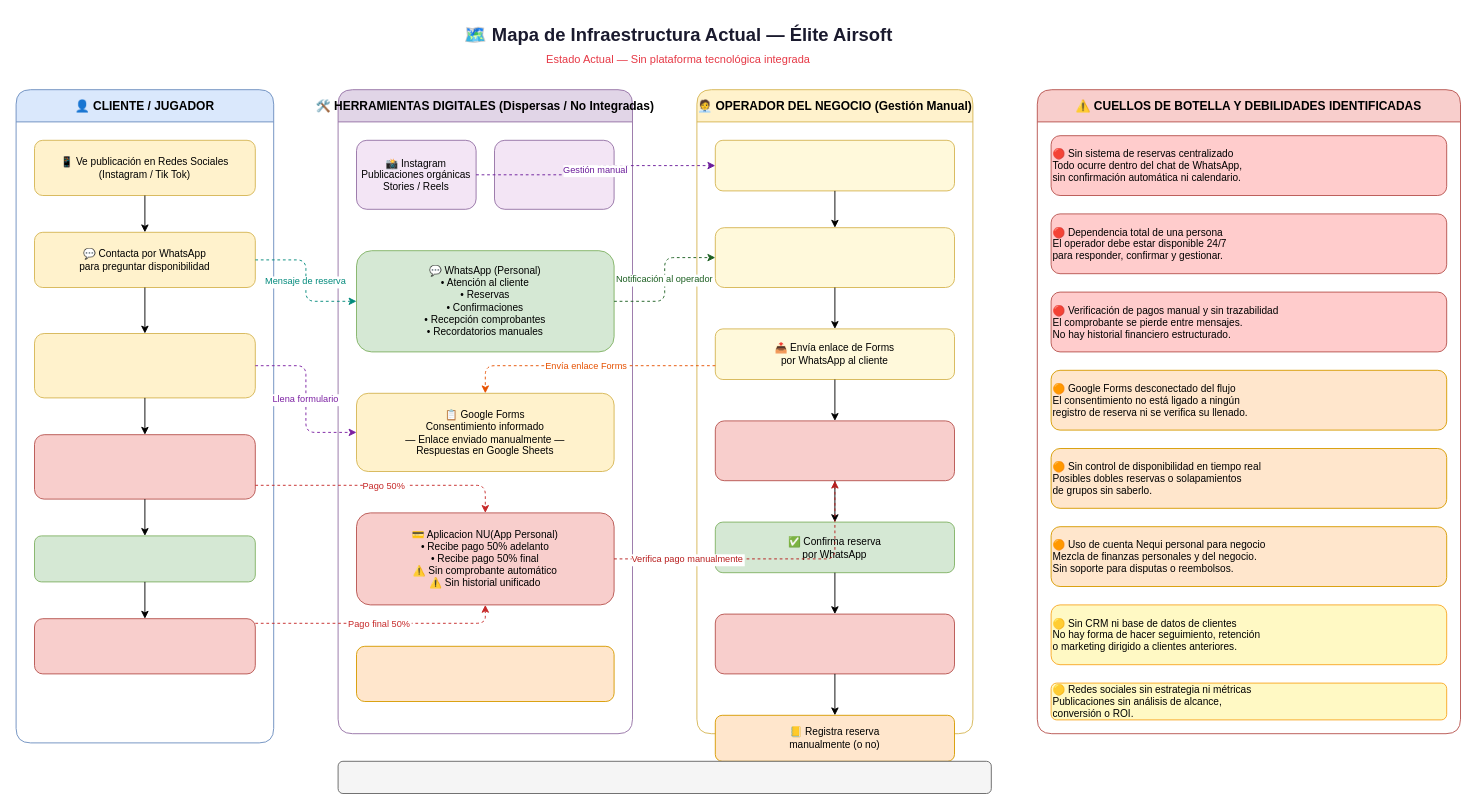
Some shapes in this 1477 by 810 pixel diagram are drawn without their labels. The centre of each missing label's shape, as x and y in pixels:
"LEYENDA: 🔴 Crítico 🟠 Importante 🟡 Mejorable" belongs at point 664,777.
"🎮 Asiste a la partida" belongs at point 144,558.
"👥 Tik Tok Publicaciones orgánicas Eventos" belongs at point 554,174.
"💰 Cobra 50% restante el día de la partida Sin factura / Sin registro" belongs at point 834,643.
"💸 Paga 50% anticipado por llave Bre-B y envía comprobante por WhatsApp" belongs at point 144,466.
"💸 Paga 50% restante en sitio / por llave Bre-B" belongs at point 144,646.
"📋 Llena Google Forms (Consentimiento informado) — enviado manualmente —" belongs at point 144,365.
"📒 Agenda / Notas Mentales Control de disponibilidad y reservas confirmadas" belongs at point 485,673.
"📣 Publica contenido manualmente en RRSS" belongs at point 834,165.
"📲 Responde WhatsApp Consultas + Reservas (sin horario definido)" belongs at point 834,257.
"🔍 Verifica comprobante de pago manualmente en el chat de WhatsApp" belongs at point 834,450.
